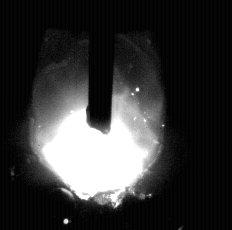arame: (87, 0, 112, 135)
poca: (29, 0, 163, 230)
